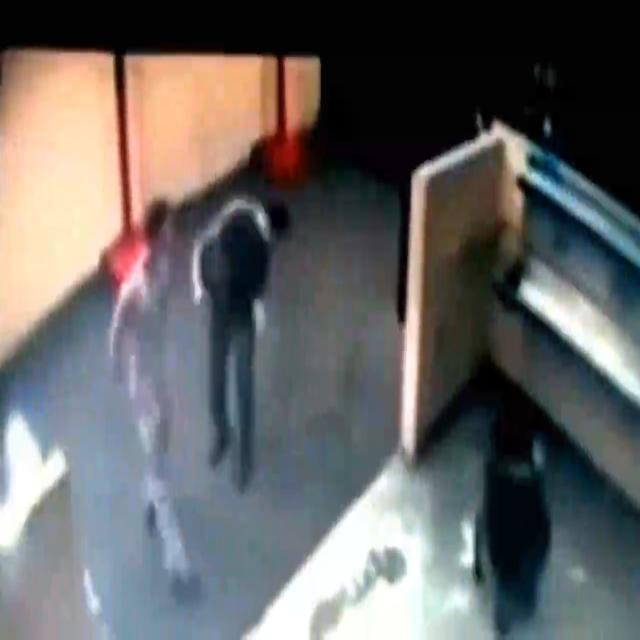fight: (78, 192, 294, 436)
